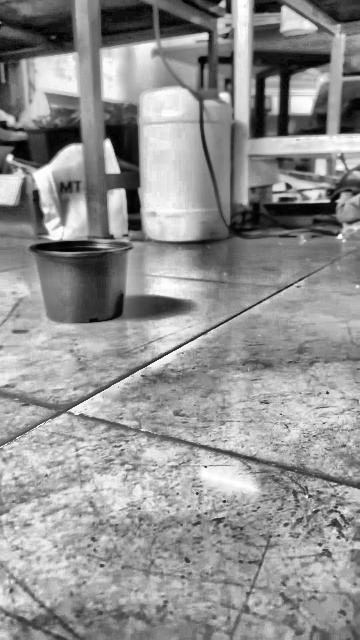pot: (29, 239, 133, 322)
